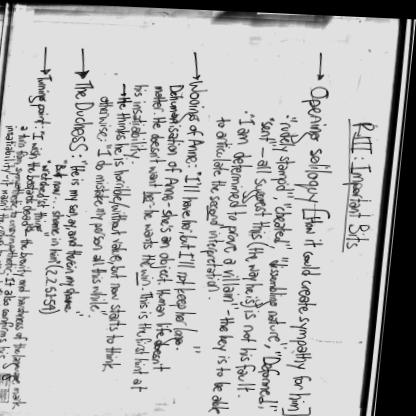Handwritten text: (289, 75, 339, 413), (214, 107, 263, 415), (175, 73, 220, 351), (134, 77, 172, 396), (263, 111, 299, 404), (242, 109, 278, 394), (58, 72, 100, 316), (107, 90, 137, 369), (2, 121, 36, 361), (161, 77, 187, 377), (203, 105, 241, 295), (91, 83, 119, 314), (340, 115, 385, 250), (0, 120, 23, 366), (14, 236, 44, 408), (126, 73, 153, 166), (26, 131, 47, 235), (52, 161, 71, 263), (27, 72, 60, 123), (39, 162, 57, 232)
Whiteboard: (0, 5, 405, 416)
